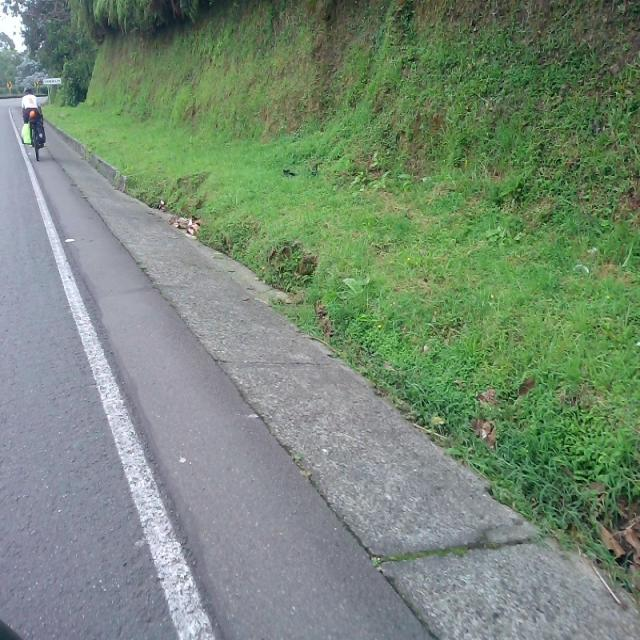DITCH: (5, 100, 638, 638)
